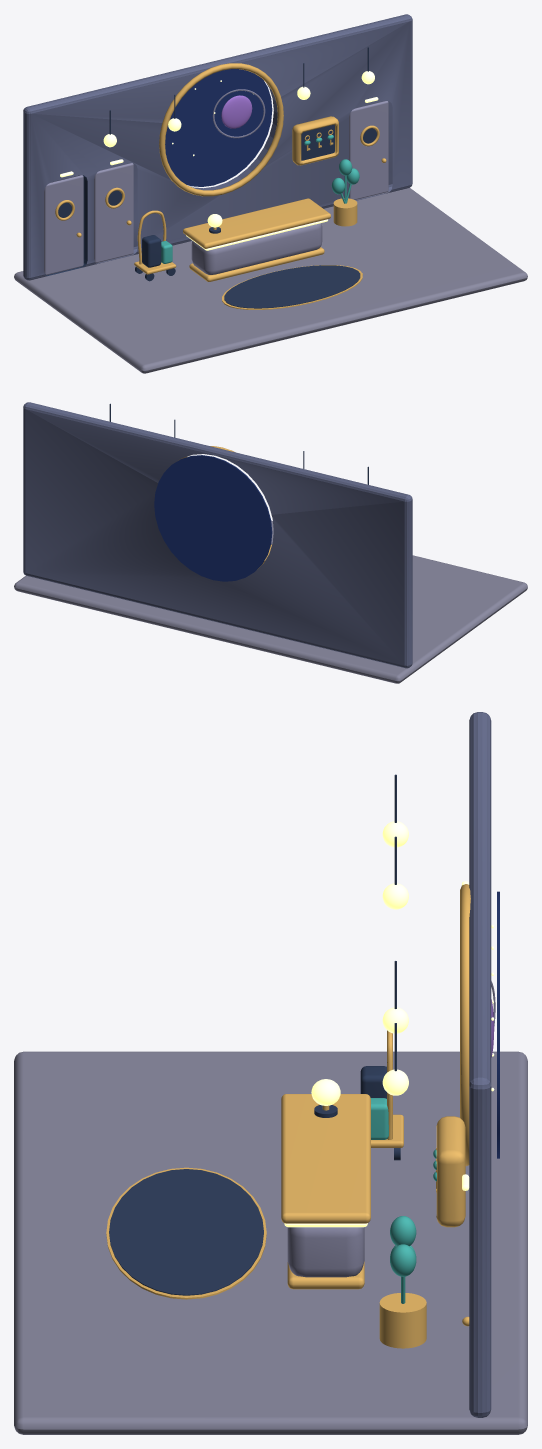
The model's file is lobby.glb.
The picture shows the model from 3 angles, top to bottom: view 1: azimuth 30°, elevation 25°; view 2: azimuth 150°, elevation 25°; view 3: azimuth 270°, elevation 25°; orthographic projection. The views are drawn at different scales.
Parts seen in each view (by area): view 1: Back wall, Floor, Space beyond window, Rug, Desk body, Door 1, Door 2, Desk counter, Door 3, Window gold frame, Key cabinet, Desk plinth (+5 smaller); view 2: Back wall, Floor, Space beyond window; view 3: Floor, Back wall, Rug, Desk counter, Desk body, Key cabinet, Window gold frame, Plant pot, Rug gold edge, Desk plinth.
Boxes of the visible parts, x1,y1,x2,y2 form: Back wall: (23,14,412,280); Floor: (14,187,527,373); Space beyond window: (165,69,272,186); Rug: (224,265,360,308); Desk body: (191,223,322,274); Door 1: (44,175,83,274); Door 2: (94,163,133,262); Desk counter: (183,198,330,248); Door 3: (349,101,388,199); Window gold frame: (159,63,283,196); Key cabinet: (292,116,338,165); Desk plinth: (189,247,324,281); Back wall: (23,402,412,668); Floor: (14,521,527,683); Space beyond window: (154,455,272,581); Floor: (14,1051,527,1434); Back wall: (469,712,491,1417); Rug: (109,1169,263,1295); Desk counter: (281,1094,370,1223); Desk body: (287,1227,364,1277); Key cabinet: (436,1116,465,1227); Window gold frame: (460,884,470,1166); Plant pot: (379,1293,426,1348); Rug gold edge: (106,1167,266,1299); Desk plinth: (287,1261,364,1289).
Bounding box in the file's own units: 12 × 5.36 × 7.
